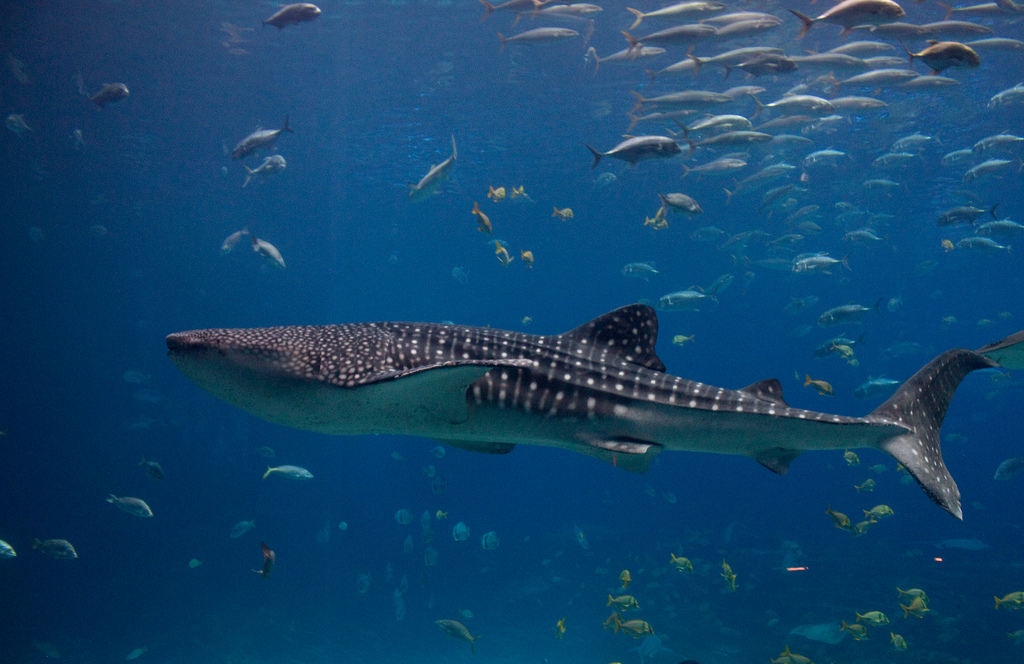Rhincodon_typusw: (107, 281, 1001, 499)
